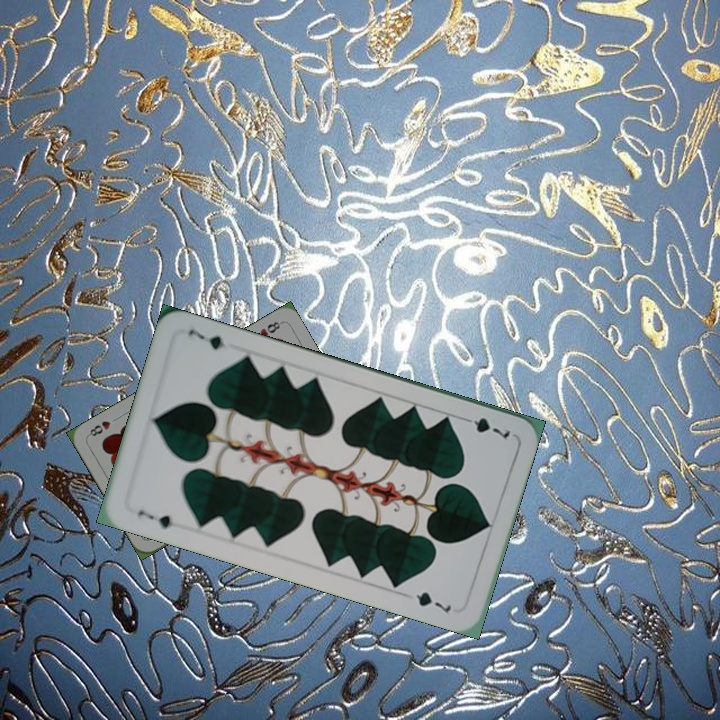G7: (457, 412, 513, 441), (133, 505, 175, 531)
H8: (255, 317, 284, 340)
